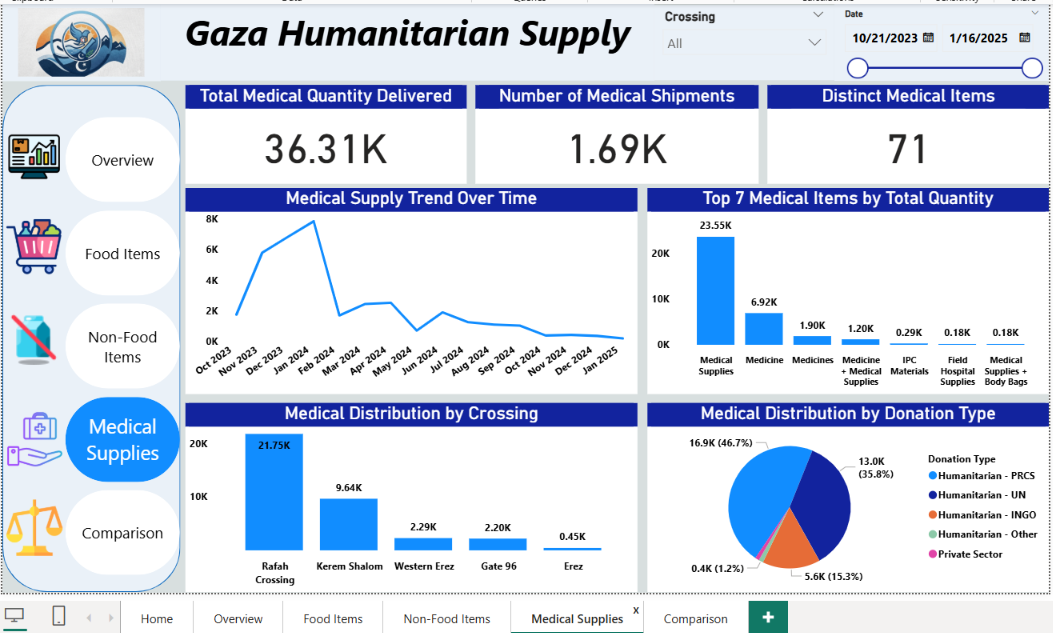

What the dashboard file says about the page in this screenshot:
{"tool":"powerbi","page":{"name":"Medical Supplies","canvas":[1280,720],"ordinal":4},"visuals":[{"type":"shape","box":[0,99,217.7,620],"z":500},{"type":"shape","box":[0,1.3,192.8,92.5],"z":1000},{"type":"textbox","box":[192.8,0,604.1,93.8],"z":2000},{"type":"image","box":[0,0,193.2,94.2],"z":3000},{"type":"cardVisual","title":"\tTotal Medical Quantity Delivered","fields":{"Data":["gold medical_analysis.Medical Total Qty"]},"box":[223.8,99,343.6,121.1],"z":4000},{"type":"cardVisual","title":"Number of Medical Shipments","fields":{"Data":["gold medical_analysis.Medical Shipments"]},"box":[578.4,99,346.1,121.1],"z":5000},{"type":"lineChart","title":"Medical Supply Trend Over Time","fields":{"Y":["gold medical_analysis.Medical Total Qty"],"Category":["DateTable.YearMonth"]},"box":[223.7,224.9,552.7,251.9],"z":6000},{"type":"columnChart","title":"Top 7 Medical Items by Total Quantity","fields":{"Category":["gold medical_analysis.DescriptionOfCargo"],"Y":["gold medical_analysis.Medical Total Qty"]},"box":[789.2,224.9,491,251.9],"z":7000},{"type":"columnChart","title":"Medical Distribution by Crossing","fields":{"Category":["gold medical_analysis.Crossing"],"Y":["gold medical_analysis.Medical Total Qty"]},"box":[223.7,488.5,552.7,231.4],"z":8000},{"type":"pieChart","title":"Medical Distribution by Donation Type","fields":{"Y":["gold medical_analysis.Medical Total Qty"],"Category":["gold medical_analysis.DonationType"]},"box":[789.2,488.5,491,231.4],"z":9000},{"type":"cardVisual","title":"Distinct Medical Items","fields":{"Data":["gold medical_analysis.Medical Items Count"]},"box":[935.2,98.6,345.1,121.1],"z":10000},{"type":"group","id":"g1","title":"Group 1","box":[0,138.3,218.1,564.5],"z":11000},{"type":"slicer","fields":{"Values":["gold medical_analysis.Crossing"]},"box":[797.3,1.3,220,92],"z":12000},{"type":"slicer","title":"Date","fields":{"Values":["DateTable.Date"]},"box":[1017,0,263,93.2],"z":13000},{"type":"pageNavigator","box":[77.4,138.3,140.7,564.5],"z":13000,"group":"g1"},{"type":"image","box":[0,150.2,77.4,73],"z":14000,"group":"g1"},{"type":"image","box":[0,251.5,77.4,89.4],"z":15000,"group":"g1"},{"type":"image","box":[0,364.7,77.4,86.4],"z":16000,"group":"g1"},{"type":"image","box":[1.4,486.8,77.4,90.8],"z":17000,"group":"g1"},{"type":"image","box":[0,598.5,78.8,84.9],"z":18000,"group":"g1"}]}

Visuals, with their boxes on the page's 1280x720 design canvas (x1, y1, x2, y2). These are canvas units, not pixel positions in the 1053x633 screenshot, which may show the page scaled, cropped or inside an application window:
shape: [0,99,218,719]
shape: [0,1,193,94]
textbox: [193,0,797,94]
image: [0,0,193,94]
"	Total Medical Quantity Delivered" cardVisual: [224,99,567,220]
"Number of Medical Shipments" cardVisual: [578,99,924,220]
"Medical Supply Trend Over Time" lineChart: [224,225,776,477]
"Top 7 Medical Items by Total Quantity" columnChart: [789,225,1280,477]
"Medical Distribution by Crossing" columnChart: [224,488,776,720]
"Medical Distribution by Donation Type" pieChart: [789,488,1280,720]
"Distinct Medical Items" cardVisual: [935,99,1280,220]
"Group 1" group: [0,138,218,703]
slicer - gold medical_analysis.Crossing: [797,1,1017,93]
"Date" slicer: [1017,0,1280,93]
pageNavigator: [77,138,218,703]
image: [0,150,77,223]
image: [0,252,77,341]
image: [0,365,77,451]
image: [1,487,79,578]
image: [0,598,79,683]
